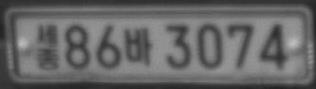0: (197, 23, 222, 68)
3: (165, 24, 191, 68)
4: (259, 23, 290, 70)
6: (96, 24, 121, 68)
7: (226, 23, 253, 67)
8: (65, 23, 90, 68)
바: (124, 26, 153, 66)
세종_V: (35, 22, 59, 70)
